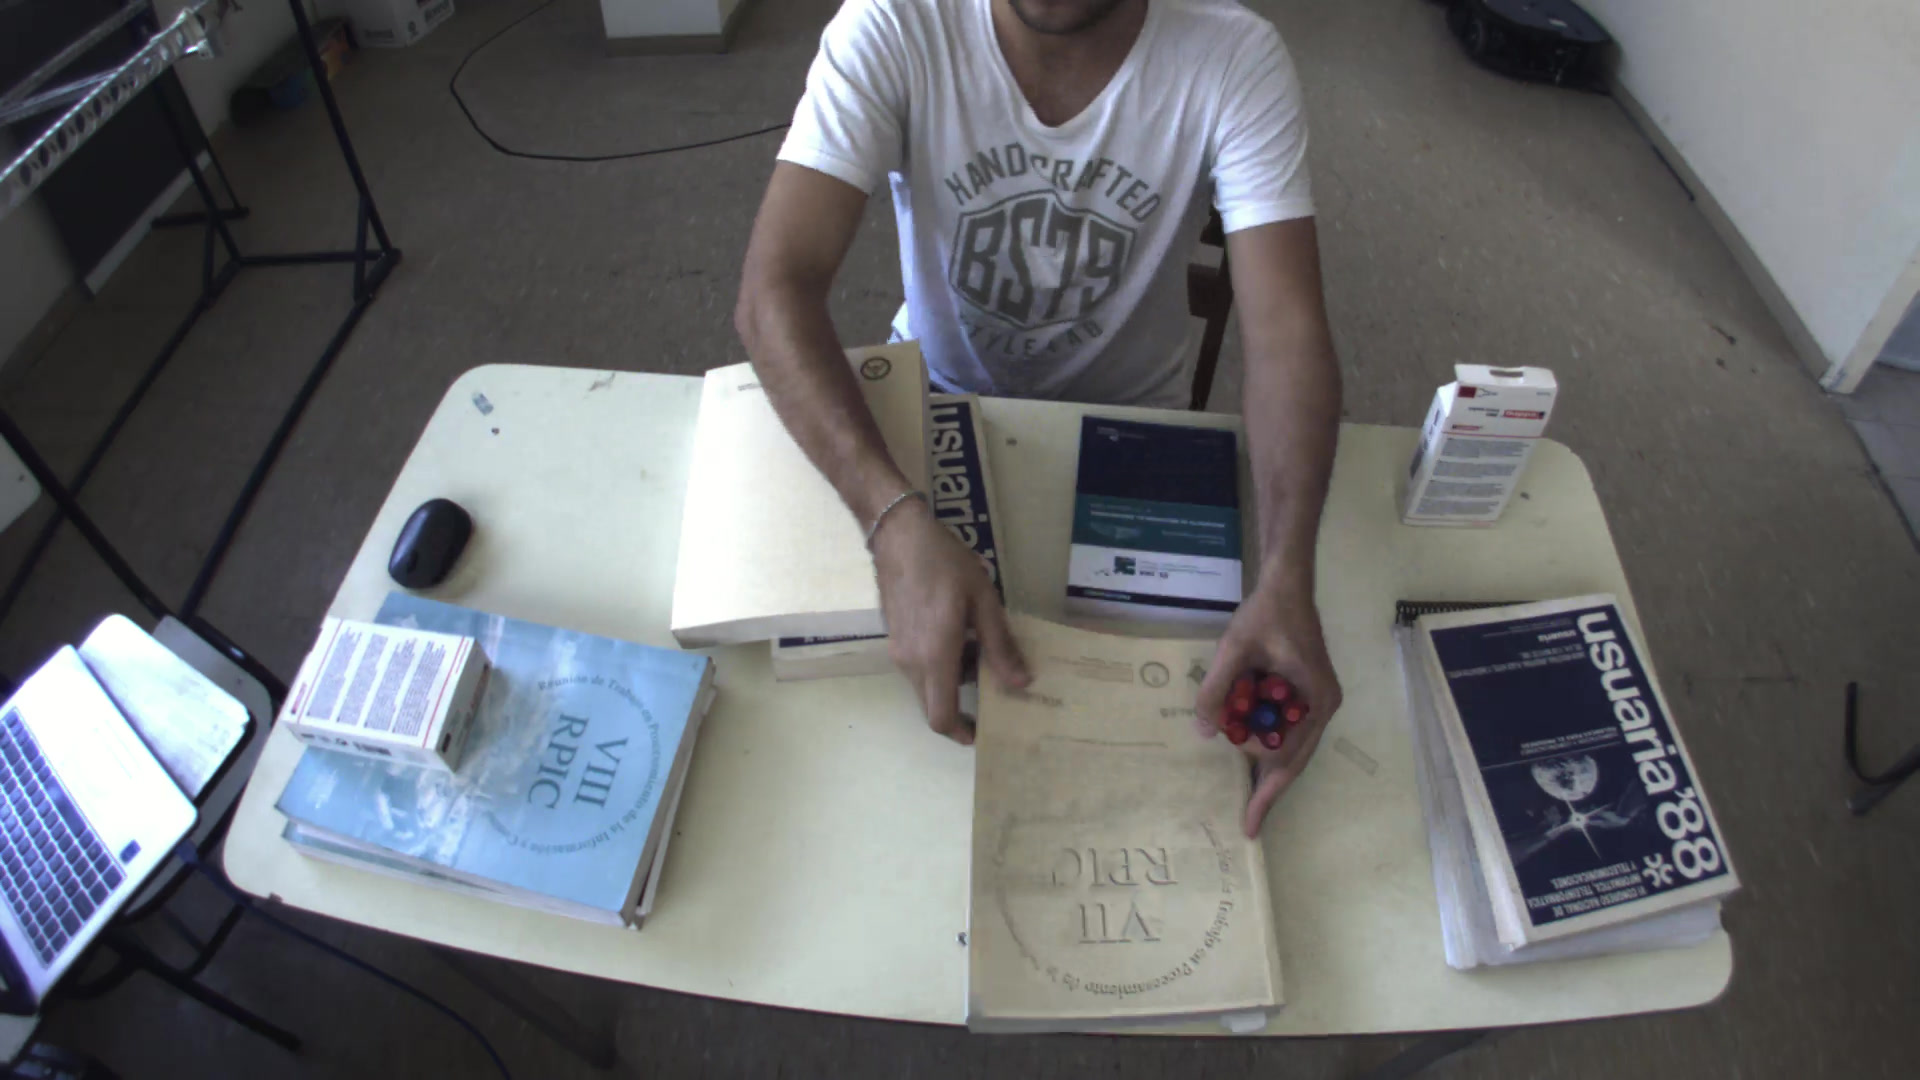hand: (860, 524, 1046, 748), (1189, 579, 1346, 761)
